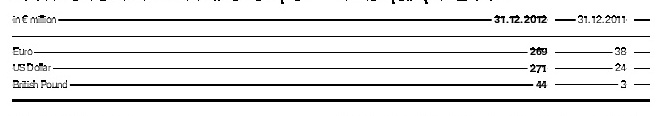table: (0, 0, 662, 116)
